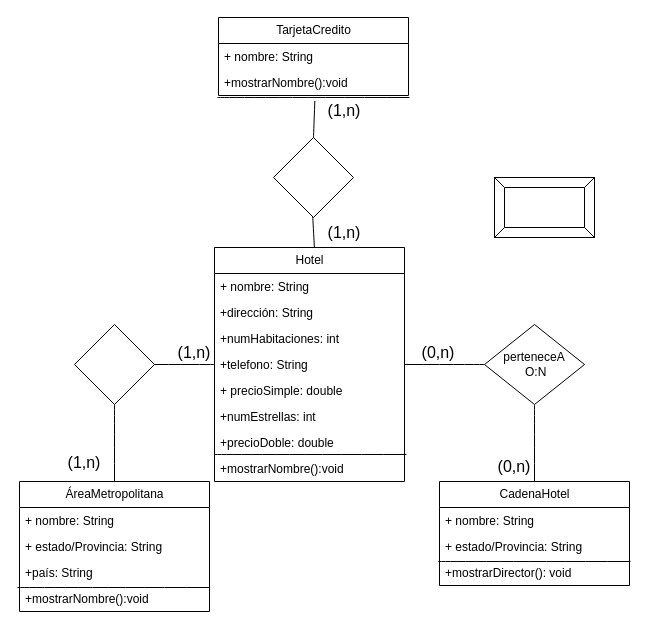
The diagram is 650 pixels wide and 632 high, and some of its shapes have lost their labels. The shapes that lost their labels are listed below. From the top down, each one's centre as x and y in pixels, then its label:
At (313,177): "acepta N:N".
At (544,207): "Nathan Revilla".
At (114,364): "SeUbicaEn 1:N".
